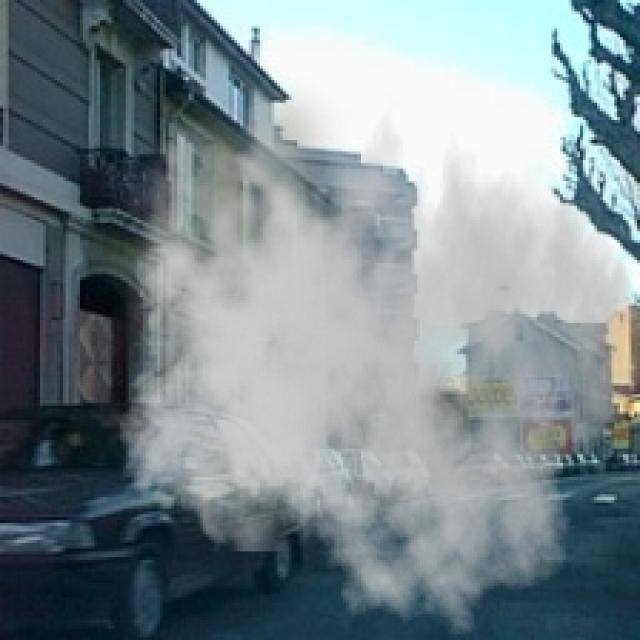Smoke: (102, 77, 638, 639)
